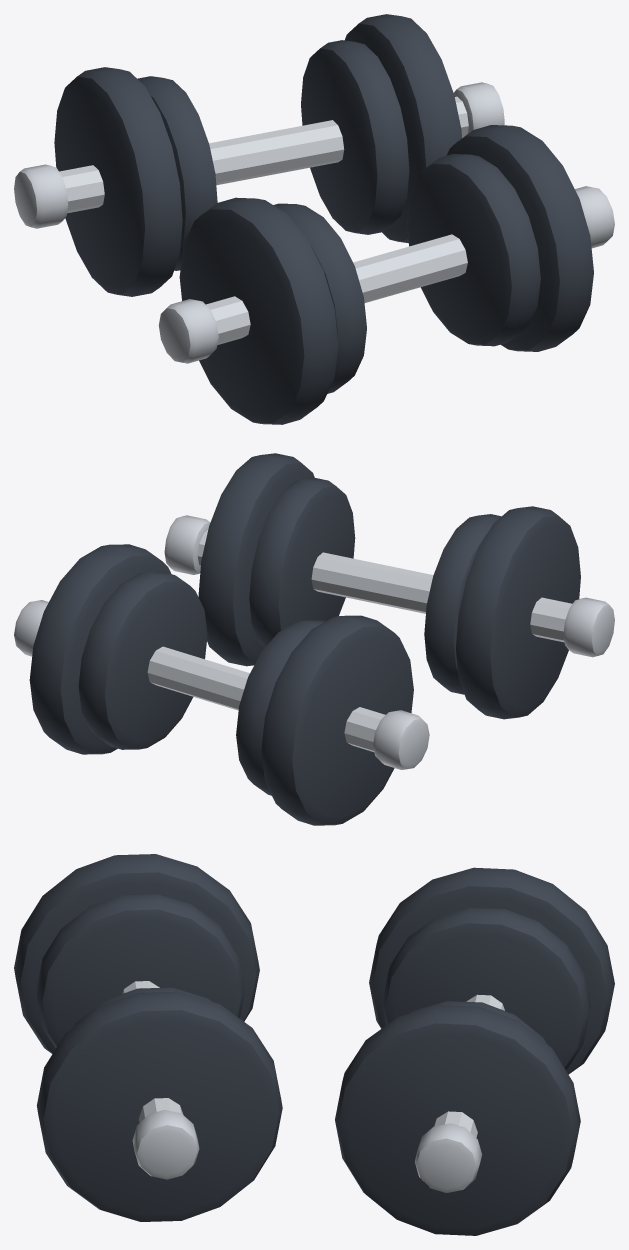
The model's file is halteres_par.glb.
3 views of the same model, one above another, from view 1: azimuth 30°, elevation 25°; view 2: azimuth 150°, elevation 25°; view 3: azimuth 270°, elevation 25° (orthographic). The views are drawn at different scales.
Visible parts, largest first — view 1: halteres_par; view 2: halteres_par; view 3: halteres_par.
Boxes of the visible parts, x1,y1,x2,y2 form: halteres_par: (14, 14, 614, 424); halteres_par: (14, 453, 614, 825); halteres_par: (14, 854, 614, 1235).
Bounding box in the file's own units: 0.3563 × 0.1477 × 0.3681.
1 material, 1 textured.
